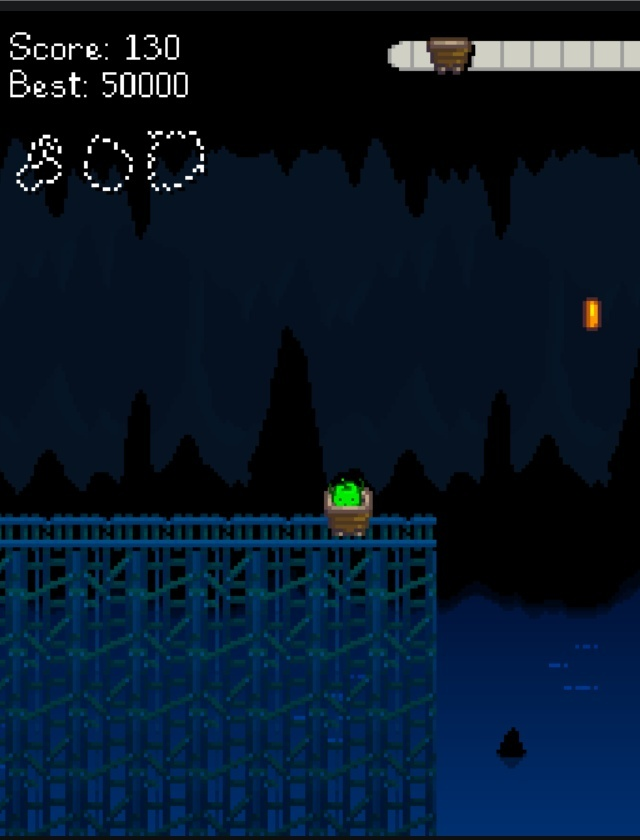coins: (583, 298, 601, 330)
minecart: (324, 478, 371, 535)
score: (124, 29, 185, 68)
tracks: (0, 508, 315, 556)
